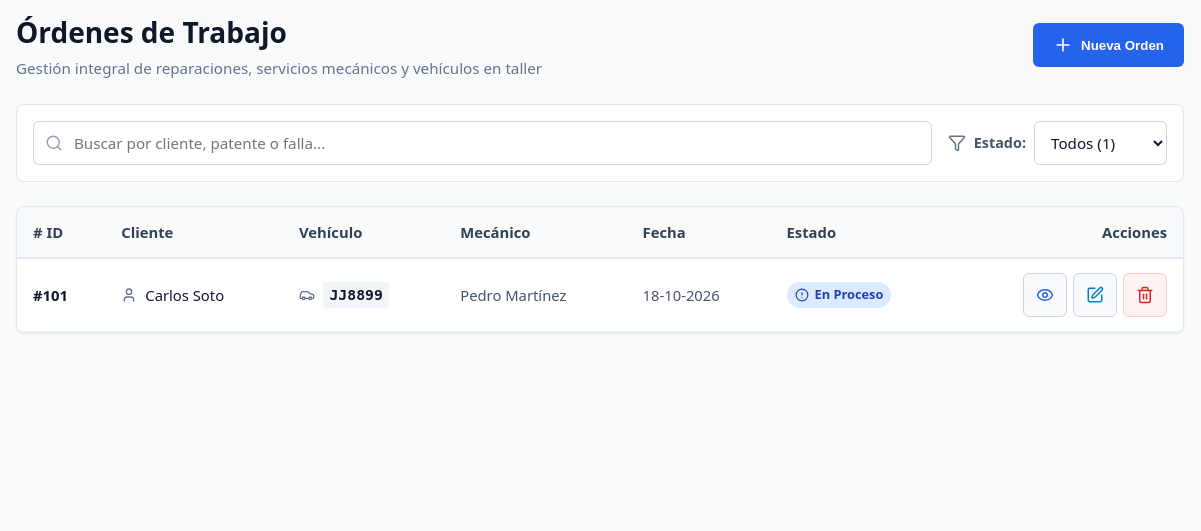
Test case: OrdenesListPage CRUD and Role Authorization › debe filtrar reactivamente el listado al escribir en la barra de búsqueda
Check: the text "JJ8899" is shown, box 323,282 -> 389,308
Type "Inexistente" into the search field labelled "Buscar por cliente, patente o falla...". click: coordinates (482, 143)
box: 33,121 -> 932,165
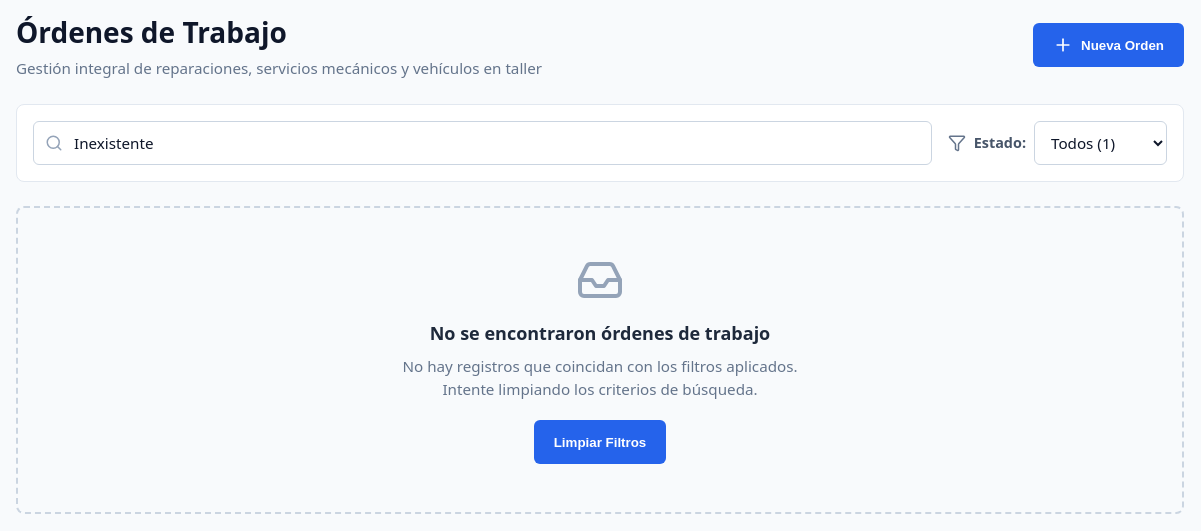
Check: the text "JJ8899" is gone
Check: the heading "No se encontraron órdenes de trabajo" is shown, box 430,320 -> 770,347
